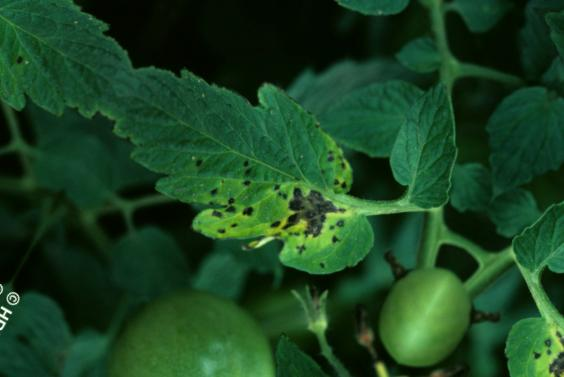Tomato Early blight leaf: (90, 38, 411, 306)
